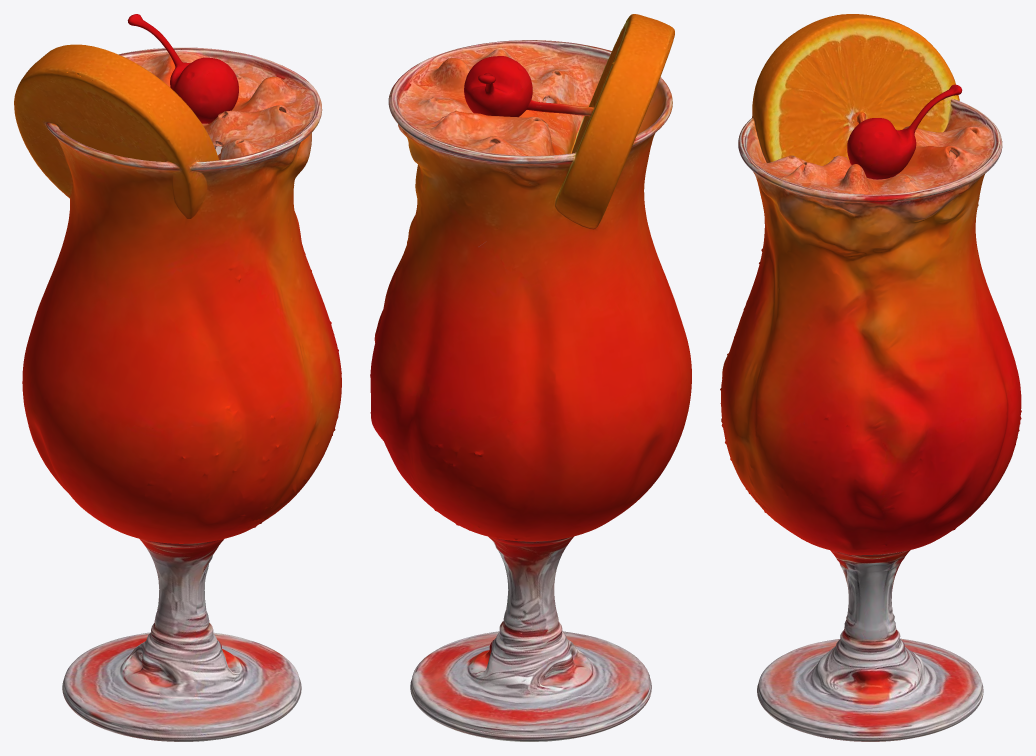
Rendered from modelo-06.glb.
3 renders of one model, left to right at view 1: azimuth 30°, elevation 25°; view 2: azimuth 150°, elevation 25°; view 3: azimuth 270°, elevation 25°, orthographic. The views are drawn at different scales.
Visible parts, largest first — view 1: tripo_node_1e27434b-b823-4506-aa3d-02d4974f1056; view 2: tripo_node_1e27434b-b823-4506-aa3d-02d4974f1056; view 3: tripo_node_1e27434b-b823-4506-aa3d-02d4974f1056.
Boxes of the visible parts, x1,y1,x2,y2 form: tripo_node_1e27434b-b823-4506-aa3d-02d4974f1056: [14, 14, 341, 741]; tripo_node_1e27434b-b823-4506-aa3d-02d4974f1056: [370, 14, 691, 741]; tripo_node_1e27434b-b823-4506-aa3d-02d4974f1056: [720, 14, 1021, 741].
Size of the model in its own units: 0.4211 by 0.9796 by 0.4212.
Materials: 1 (1 with a texture image).
